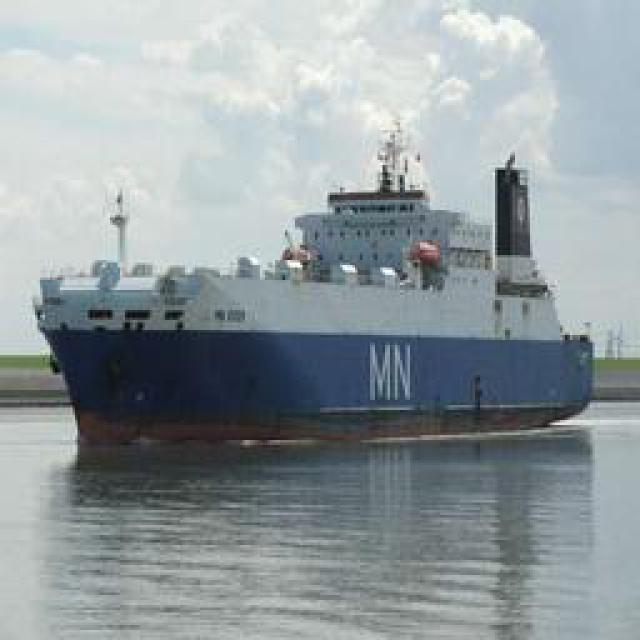Ship: (34, 129, 594, 429)
